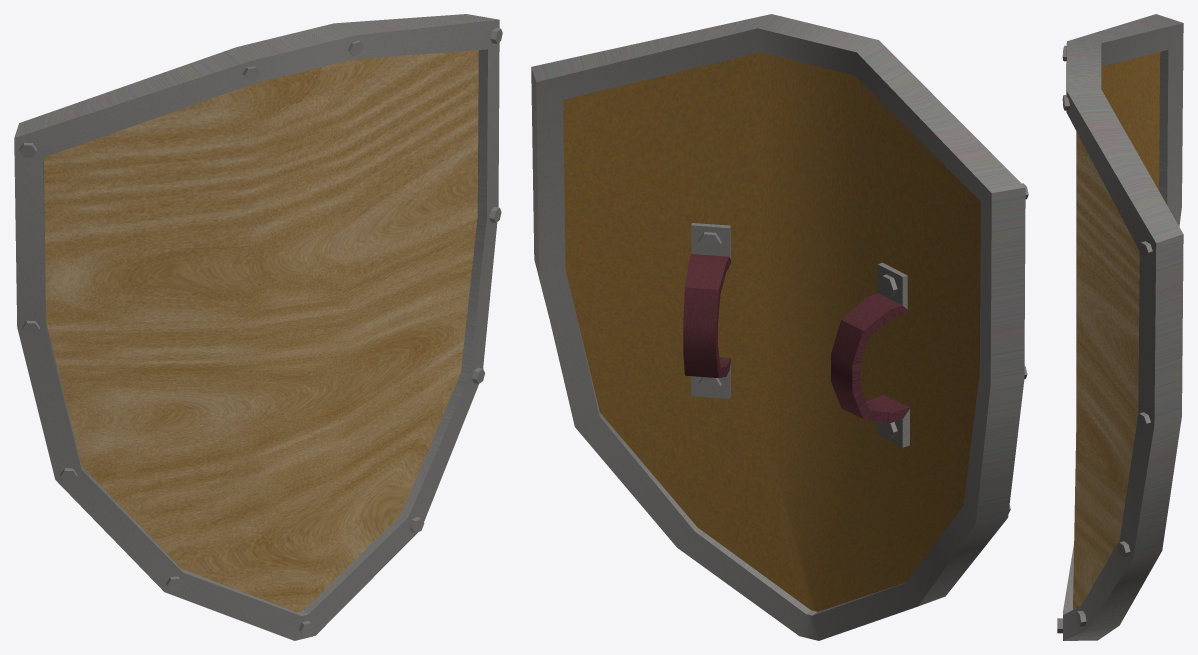
The model's file is assetPropShield.fbx.
3 renders of one model, left to right at view 1: azimuth 30°, elevation 25°; view 2: azimuth 150°, elevation 25°; view 3: azimuth 270°, elevation 25°, orthographic. The views are drawn at different scales.
Visible parts, largest first — view 1: polySurface21; view 2: polySurface21; view 3: polySurface21.
Boxes of the visible parts, left/top/right/bottom form: polySurface21: left=14, top=14, right=502, bottom=640; polySurface21: left=531, top=14, right=1028, bottom=640; polySurface21: left=1057, top=14, right=1183, bottom=640.
Size of the model in its own units: 65.62 by 76.05 by 15.26.
